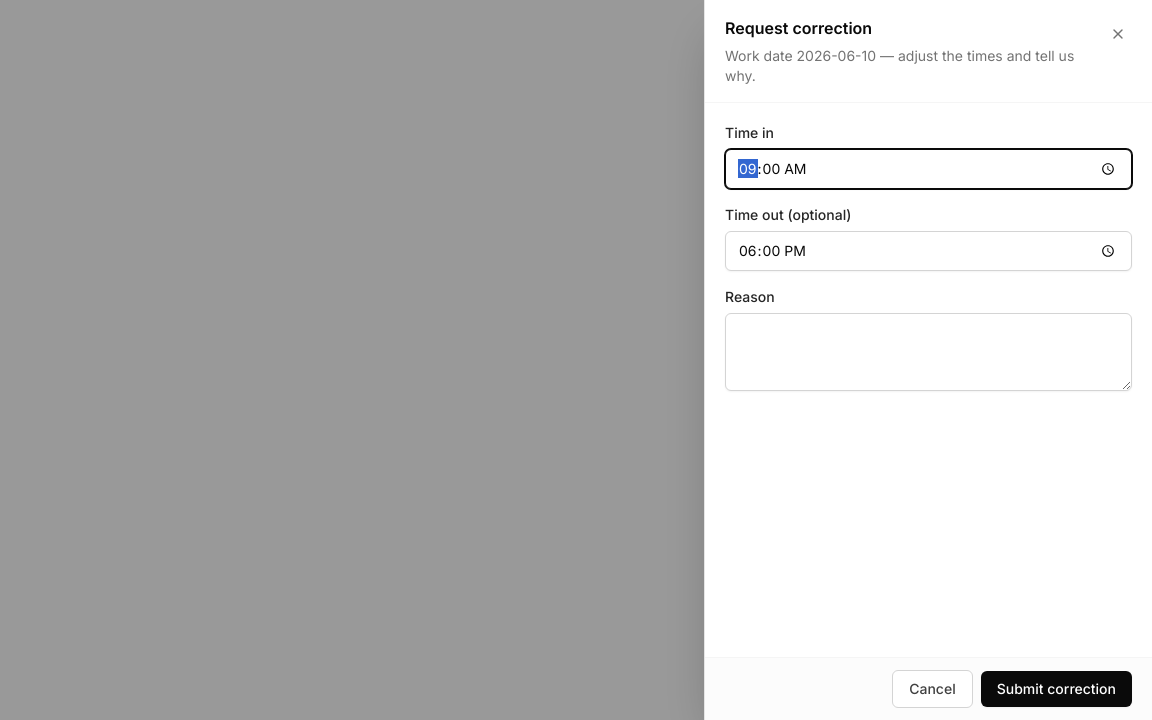
Test: RequestCorrectionDrawer › blocks time-out earlier than time-in (same-day rule)
The width and height of the screenshot is (1152, 720).
Replace the text in the time field labelled "Time out (optional)" with "00:30" at [928, 251], box [725,231,1132,271]
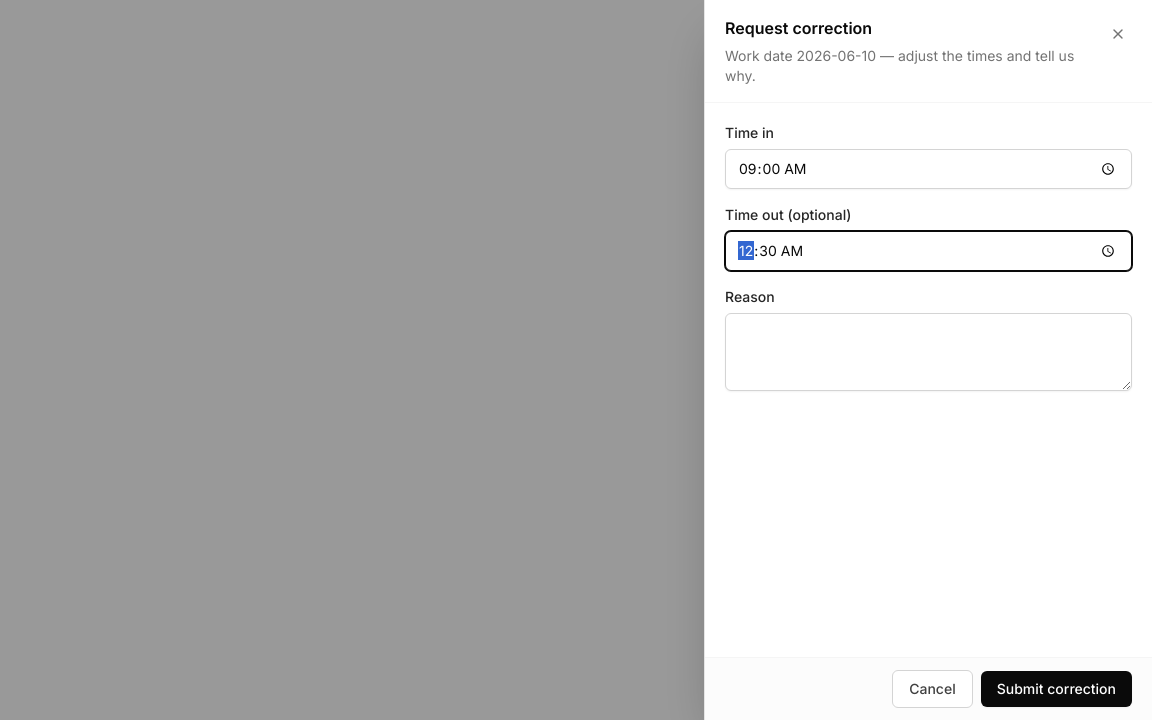
Type "bad" into the text box labelled "Reason".
click(928, 352); type("bad")  # box [725,313,1132,391]
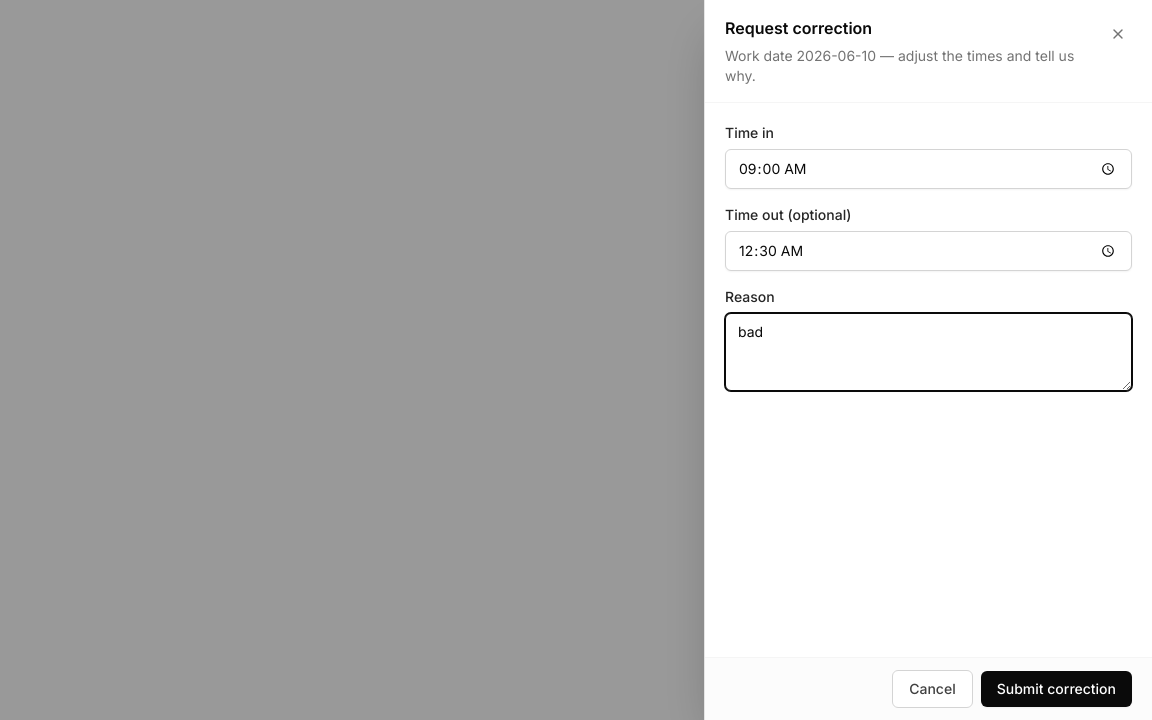
Click the button "Submit correction".
click(1056, 689)  # box [981,671,1132,707]
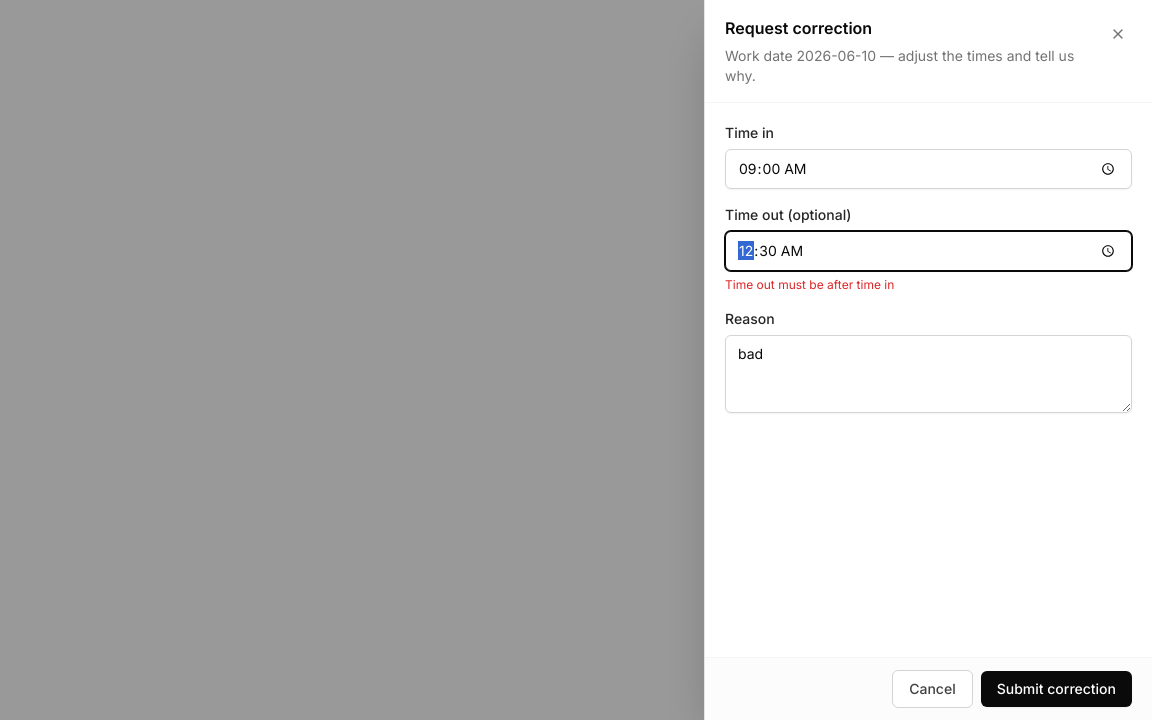
Now the text "Time out must be after time in" is shown, box [725,277,894,292]
